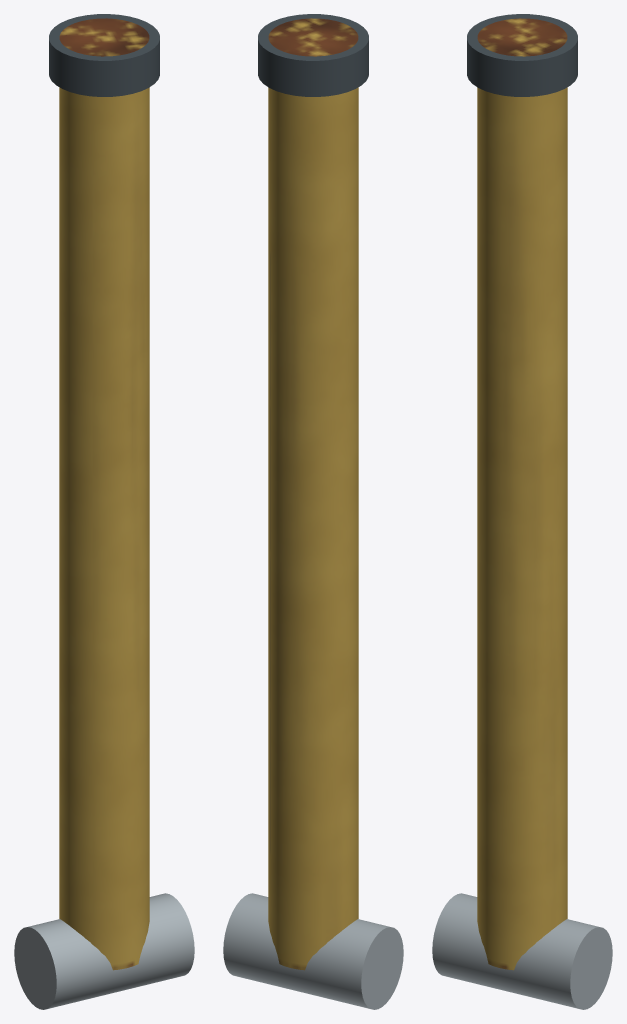
Rendered from crane_luff_barrel.glb.
The picture shows the model from 3 angles, left to right: view 1: azimuth 30°, elevation 25°; view 2: azimuth 150°, elevation 25°; view 3: azimuth 330°, elevation 25°; orthographic projection.
Visible parts, largest first — view 1: crane_luff_barrel; view 2: crane_luff_barrel; view 3: crane_luff_barrel.
Part boxes in pixels (box(x1,y1,x2,y2)): crane_luff_barrel: box(14, 14, 194, 1009); crane_luff_barrel: box(223, 14, 403, 1009); crane_luff_barrel: box(432, 14, 612, 1009).
Size of the model in its own units: 0.6 by 3.96 by 0.42.
3 materials, 1 textured.
